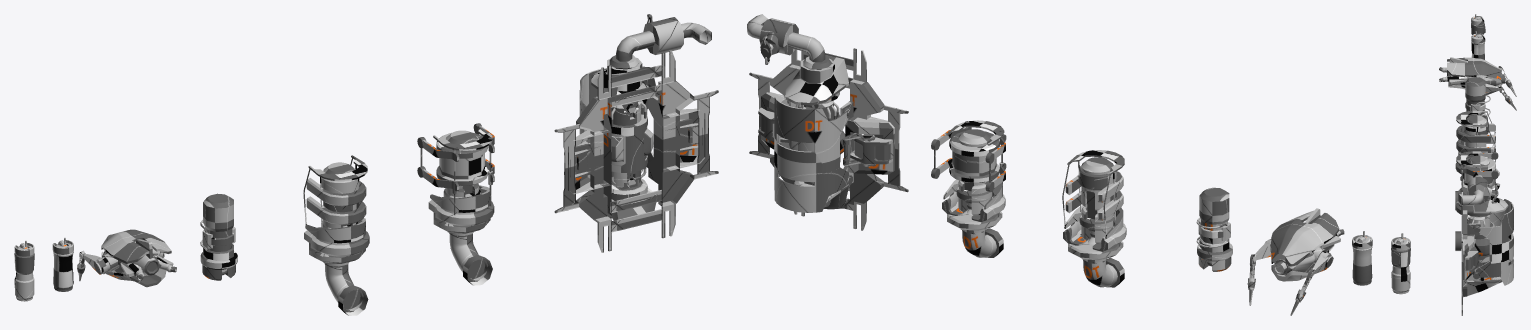
The model's file is Pack_03_GAmeready.FBX.
3 renders of one model, left to right at view 1: azimuth 30°, elevation 25°; view 2: azimuth 150°, elevation 25°; view 3: azimuth 270°, elevation 25°, orthographic. The views are drawn at different scales.
Visible parts, largest first — view 1: Object113, Object109, Object111, Object112, Object104, Object107, Object110, Object108, Object102, Object103, Object115, Object106; view 2: Object113, Object109, Object111, Object104, Object116, Object110, Object115, Object107, Object108, Object102, Object103, Object112 (+2 smaller); view 3: Object113, Object104, Object115, Object109, Object111, Object116, Object107, Object112, Object110, Object108, Object103, Object102 (+3 smaller).
Part boxes in pixels (x1,y1,x2,y2): Object113: (554, 17, 718, 252); Object109: (303, 155, 369, 315); Object111: (417, 123, 494, 285); Object112: (611, 100, 653, 189); Object104: (101, 229, 176, 287); Object107: (200, 193, 237, 280); Object110: (436, 130, 488, 198); Object108: (321, 162, 359, 228); Object102: (14, 240, 34, 301); Object103: (52, 237, 73, 291); Object115: (579, 68, 648, 134); Object106: (77, 250, 110, 281); Object113: (747, 14, 908, 230); Object109: (1062, 150, 1126, 287); Object111: (931, 120, 1006, 257); Object104: (1270, 208, 1344, 281); Object116: (774, 143, 852, 212); Object110: (949, 129, 999, 215); Object115: (774, 95, 852, 173); Object107: (1196, 187, 1232, 271); Object108: (1078, 157, 1116, 243); Object102: (1391, 233, 1410, 294); Object103: (1352, 231, 1372, 285); Object112: (789, 100, 845, 185); Object113: (1461, 170, 1508, 315); Object104: (1439, 57, 1504, 94); Object115: (1474, 199, 1513, 261); Object109: (1455, 110, 1499, 210); Object111: (1455, 151, 1498, 251); Object116: (1474, 233, 1513, 285); Object107: (1465, 77, 1490, 120); Object112: (1467, 215, 1494, 267); Object110: (1461, 155, 1495, 188); Object108: (1462, 115, 1488, 146); Object103: (1471, 31, 1485, 59); Object102: (1471, 14, 1485, 50).
Bounding box in the file's own units: 342517 × 97166 × 50162.
